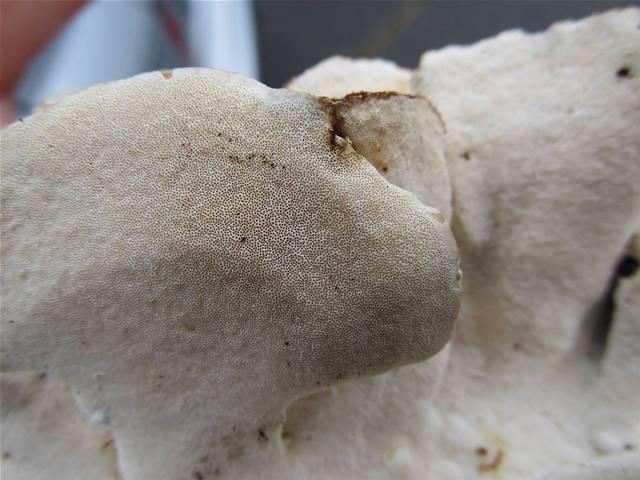poisonous_mushroom: (0, 64, 464, 478), (273, 5, 640, 480)
